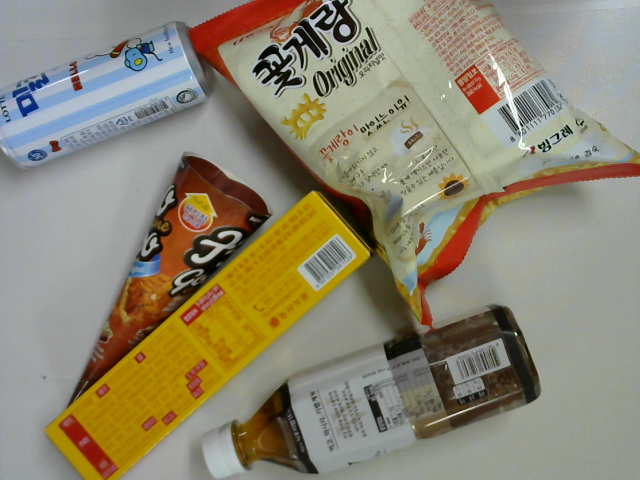Crabrang: (189, 1, 640, 330)
GooGoo_Cone_CVS: (58, 146, 275, 418)
Milkies_250ml: (1, 19, 220, 176)
Post-meal_recipe_W_tea_500ml: (202, 305, 543, 480)
Ritz_Sand_Cracker: (41, 184, 380, 480)
